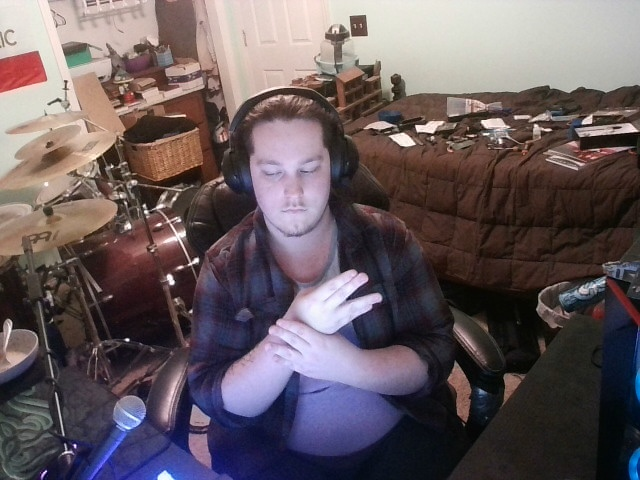world: (247, 273, 403, 380)
